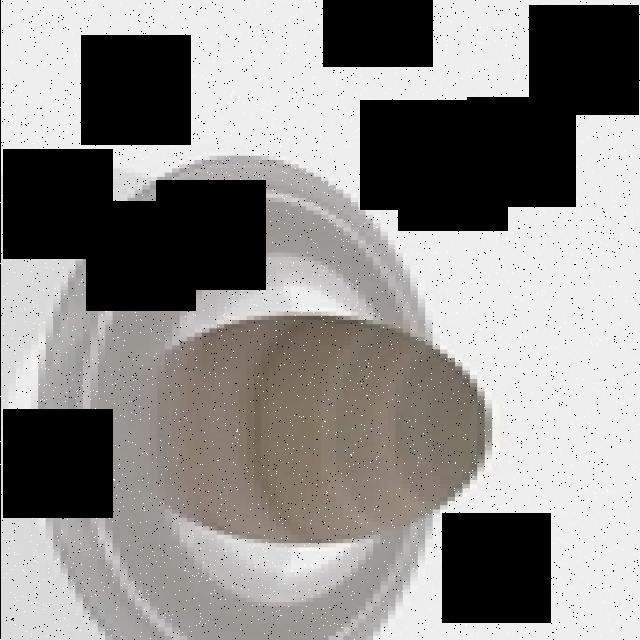Saturn: (38, 152, 499, 640)
